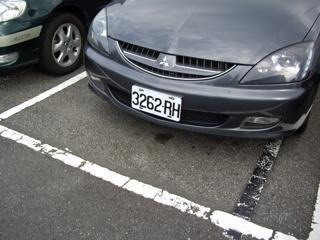plate: (129, 83, 184, 124)
